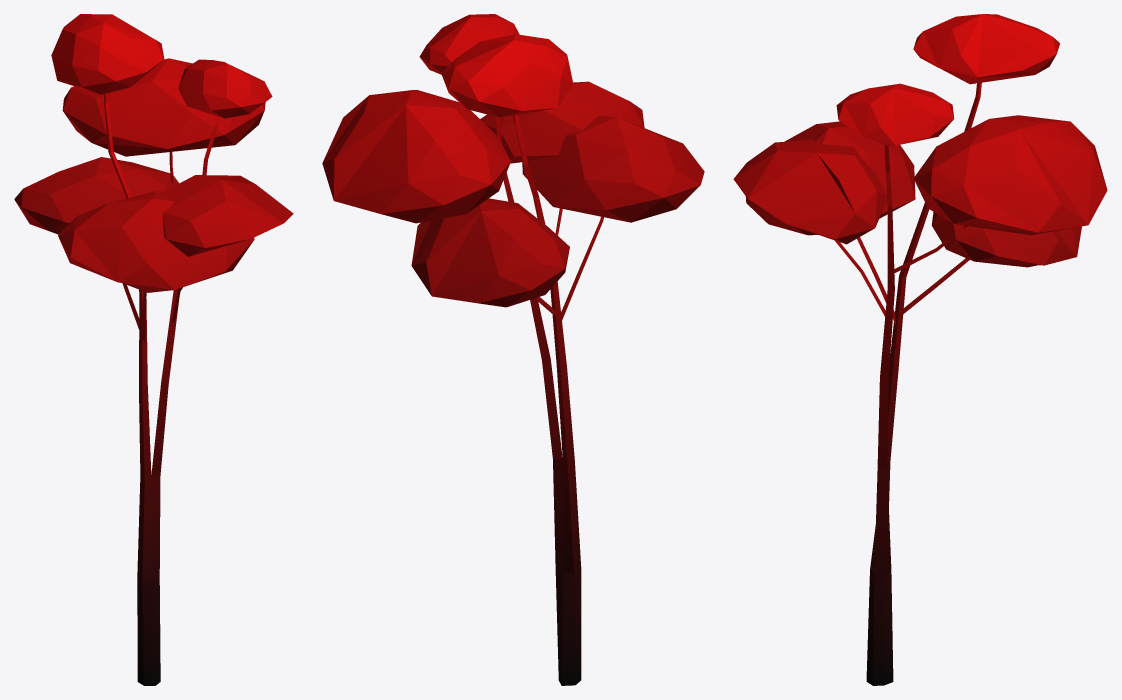
Rendered from TreeCedar02.fbx.
3 renders of one model, left to right at view 1: azimuth 30°, elevation 25°; view 2: azimuth 150°, elevation 25°; view 3: azimuth 270°, elevation 25°, orthographic. The views are drawn at different scales.
Visible parts, largest first — view 1: TreeCedar02_LOD0; view 2: TreeCedar02_LOD0; view 3: TreeCedar02_LOD0.
Part boxes in pixels (bbox=[...]): TreeCedar02_LOD0: bbox=[14, 14, 293, 685]; TreeCedar02_LOD0: bbox=[322, 14, 704, 685]; TreeCedar02_LOD0: bbox=[733, 14, 1107, 685].
Size of what is drawn, in the model's own units: 330 by 749 by 380.
